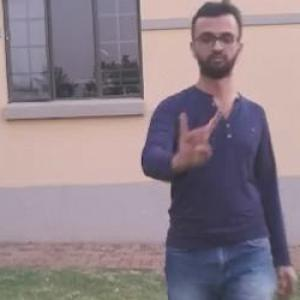takeoff-hand: (172, 102, 222, 167)
